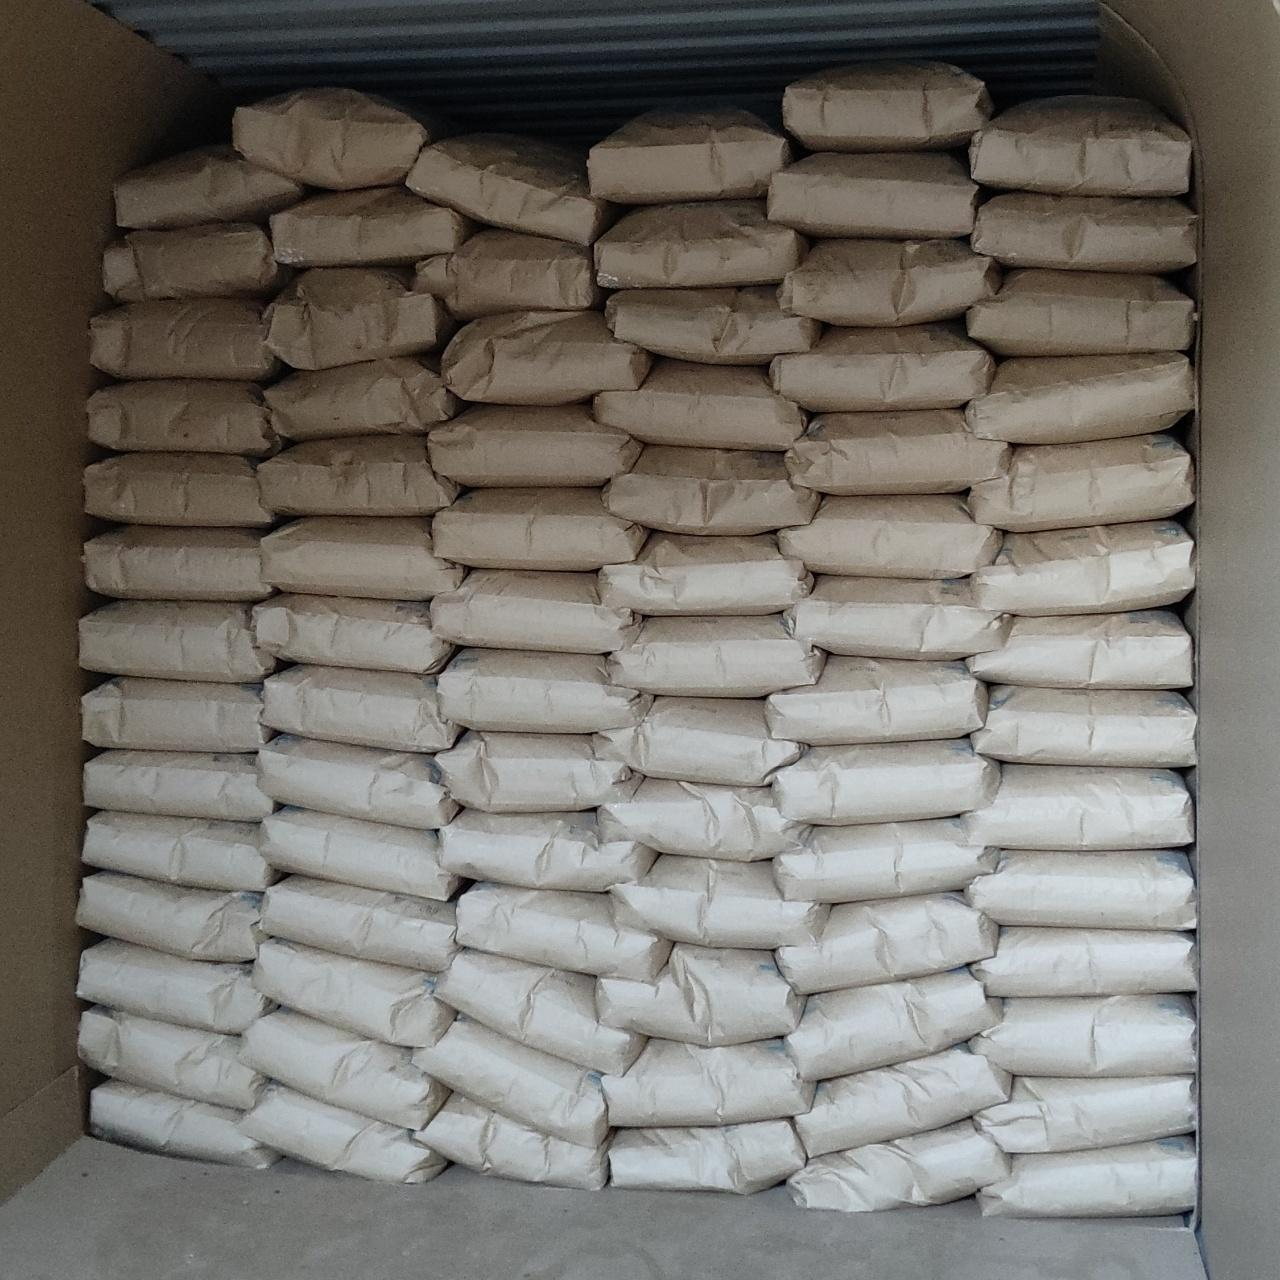sack: (436, 949, 641, 1074), (413, 1017, 607, 1147), (240, 1008, 449, 1128), (796, 1045, 1010, 1157), (787, 968, 1000, 1080), (406, 134, 613, 244), (967, 434, 1194, 532), (969, 96, 1191, 196), (253, 939, 456, 1047), (777, 894, 998, 993), (597, 943, 802, 1046), (970, 521, 1193, 615), (966, 352, 1195, 443), (457, 884, 672, 980), (770, 322, 994, 412), (233, 88, 430, 189), (787, 1119, 1008, 1209), (594, 357, 807, 450), (239, 1086, 445, 1182), (967, 269, 1194, 356), (442, 311, 651, 405), (962, 764, 1193, 849), (587, 108, 791, 204), (772, 738, 999, 824), (766, 656, 987, 744), (602, 445, 818, 535), (78, 1007, 264, 1110), (611, 856, 819, 948), (786, 410, 1011, 495), (265, 268, 453, 369), (782, 239, 1000, 326), (413, 1092, 608, 1189), (774, 818, 998, 902), (783, 62, 993, 151), (782, 576, 1009, 658), (596, 200, 807, 288), (261, 876, 456, 971), (259, 735, 458, 828), (602, 1038, 814, 1125), (970, 686, 1196, 767), (438, 809, 658, 892), (777, 496, 1002, 577), (965, 851, 1195, 930), (768, 153, 979, 239), (262, 807, 457, 900), (437, 648, 650, 733), (970, 997, 1195, 1077), (971, 193, 1196, 273), (79, 939, 268, 1034), (426, 404, 642, 486), (966, 611, 1192, 689), (600, 698, 801, 785), (598, 533, 811, 615), (607, 616, 824, 696), (979, 1137, 1196, 1217), (432, 489, 647, 569), (262, 665, 459, 752), (598, 778, 807, 860), (265, 356, 463, 442), (976, 1076, 1197, 1153), (432, 570, 637, 653), (90, 1079, 280, 1168), (76, 872, 263, 962), (413, 229, 602, 318), (262, 517, 464, 600), (435, 732, 643, 812), (606, 286, 821, 363), (270, 187, 475, 267), (252, 594, 453, 673), (257, 435, 458, 514), (79, 601, 274, 682), (116, 145, 304, 228), (83, 811, 276, 891), (90, 300, 282, 380), (972, 928, 1197, 995), (87, 382, 282, 456), (611, 1119, 804, 1193), (84, 526, 273, 601), (82, 677, 271, 752), (84, 453, 273, 527), (104, 223, 281, 302), (84, 749, 273, 820)
